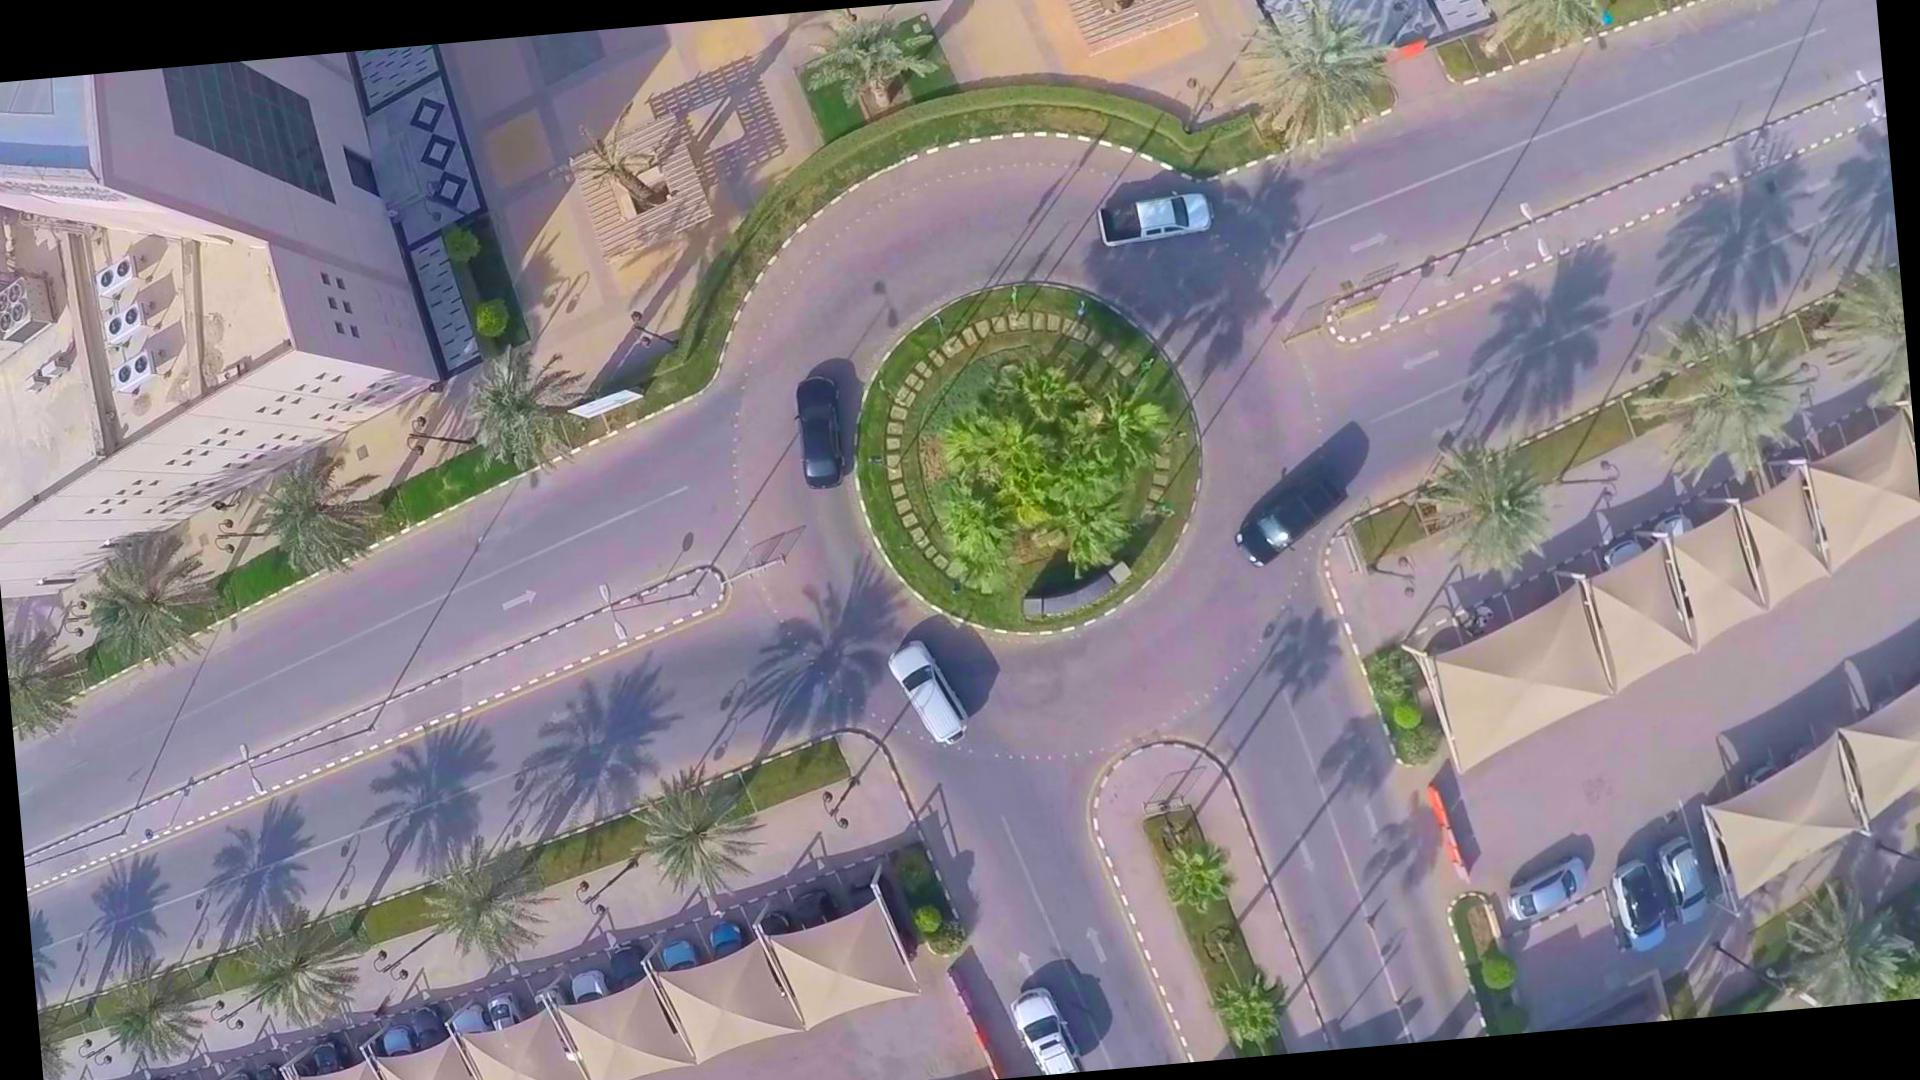vehicle: (1225, 448, 1360, 566), (884, 636, 972, 749), (1095, 185, 1217, 252), (783, 372, 851, 492)
